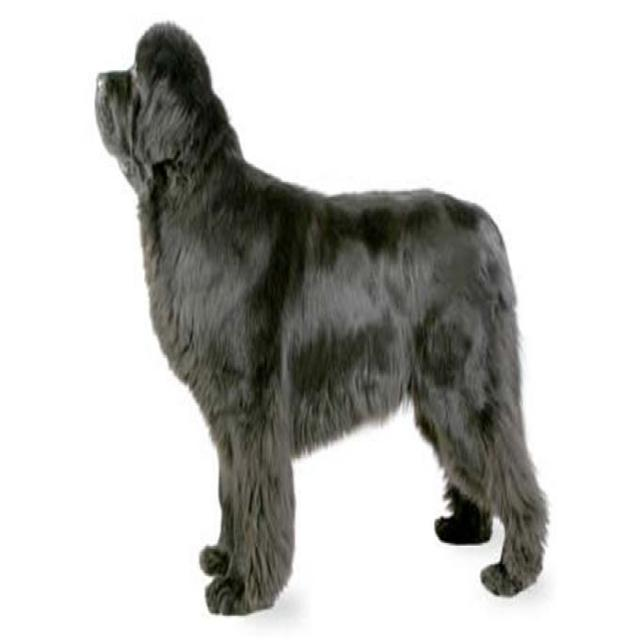dog: (69, 0, 269, 243)
